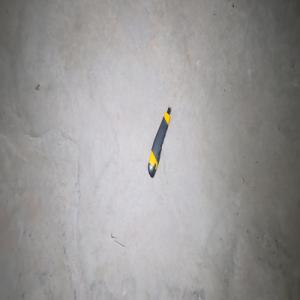Cutter: (147, 106, 171, 178)
